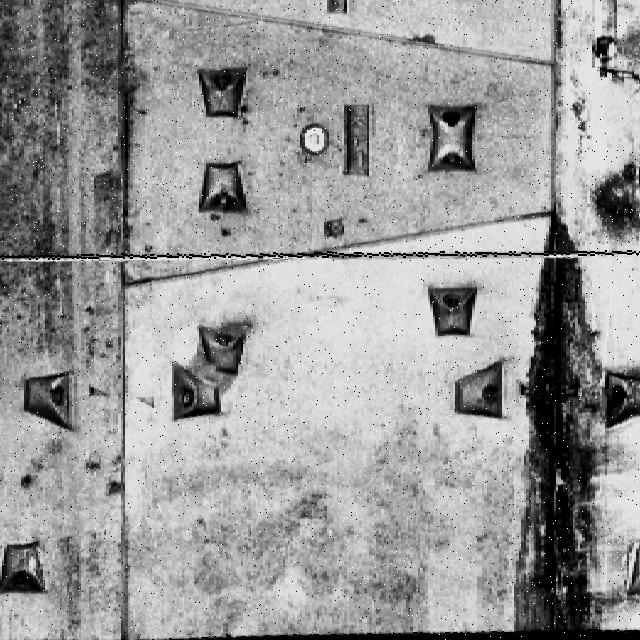leakage: (505, 205, 616, 638)
